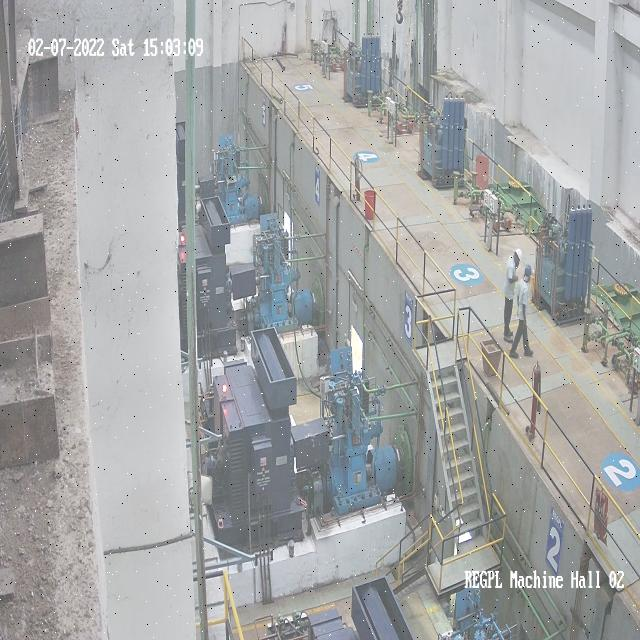Boots: (502, 337, 514, 343), (510, 351, 521, 357), (525, 349, 533, 356), (505, 330, 514, 334)
